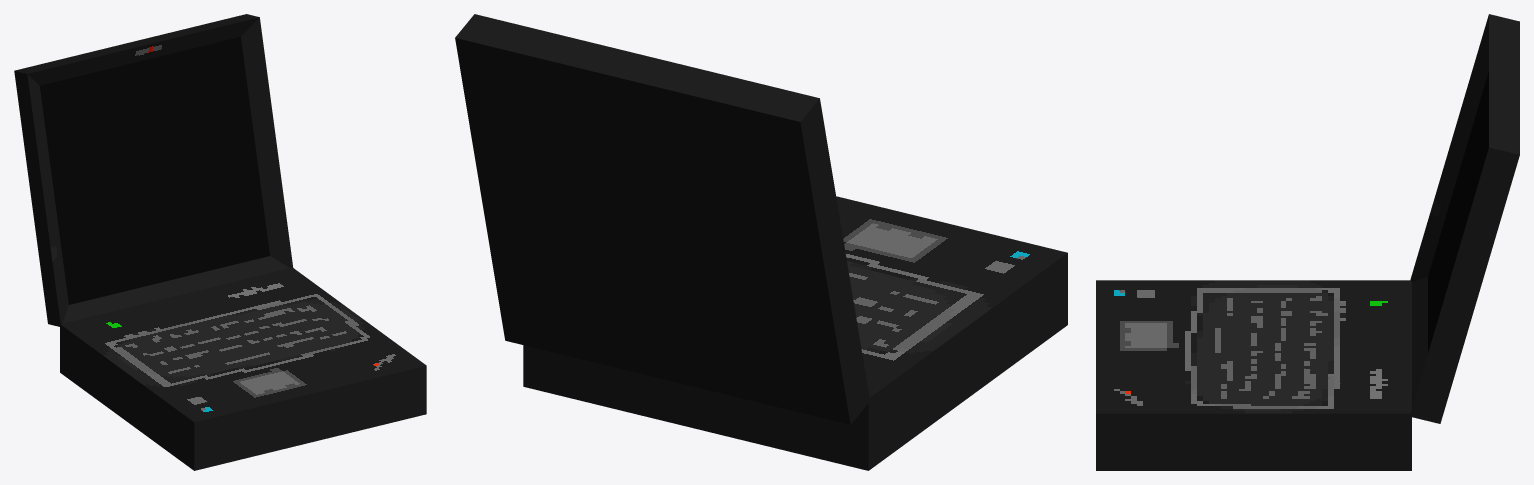
Rendered from HubLaptop.glb.
The picture shows the model from 3 angles, left to right: view 1: azimuth 30°, elevation 25°; view 2: azimuth 150°, elevation 25°; view 3: azimuth 270°, elevation 25°; orthographic projection. The views are drawn at different scales.
Visible parts, largest first — view 1: Laptop, Screen; view 2: Laptop; view 3: Laptop, Screen.
Part boxes in pixels (x1,y1,x2,y2): Laptop: [14, 14, 426, 470]; Screen: [39, 36, 269, 304]; Laptop: [455, 14, 1067, 470]; Laptop: [1096, 14, 1519, 470]; Screen: [1428, 71, 1488, 352].
Bounding box in the file's own units: 0.5 × 0.5649 × 0.671.
Materials: 2 (1 with a texture image).
